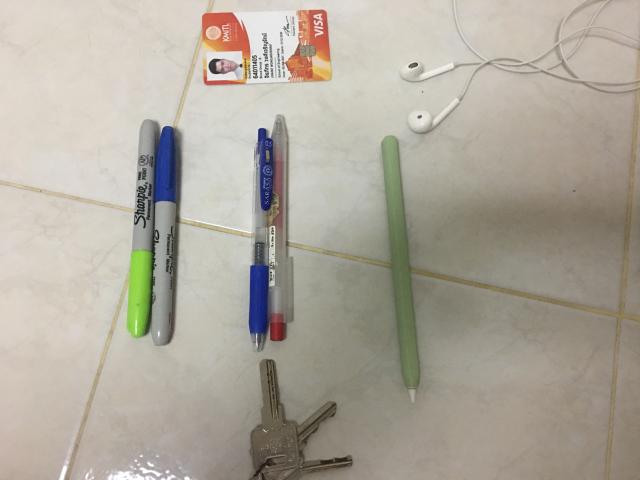Keys: (251, 360, 352, 480)
Pen: (126, 119, 158, 338), (266, 115, 294, 341), (151, 126, 178, 345), (249, 129, 274, 352)
wire: (400, 0, 640, 134)
